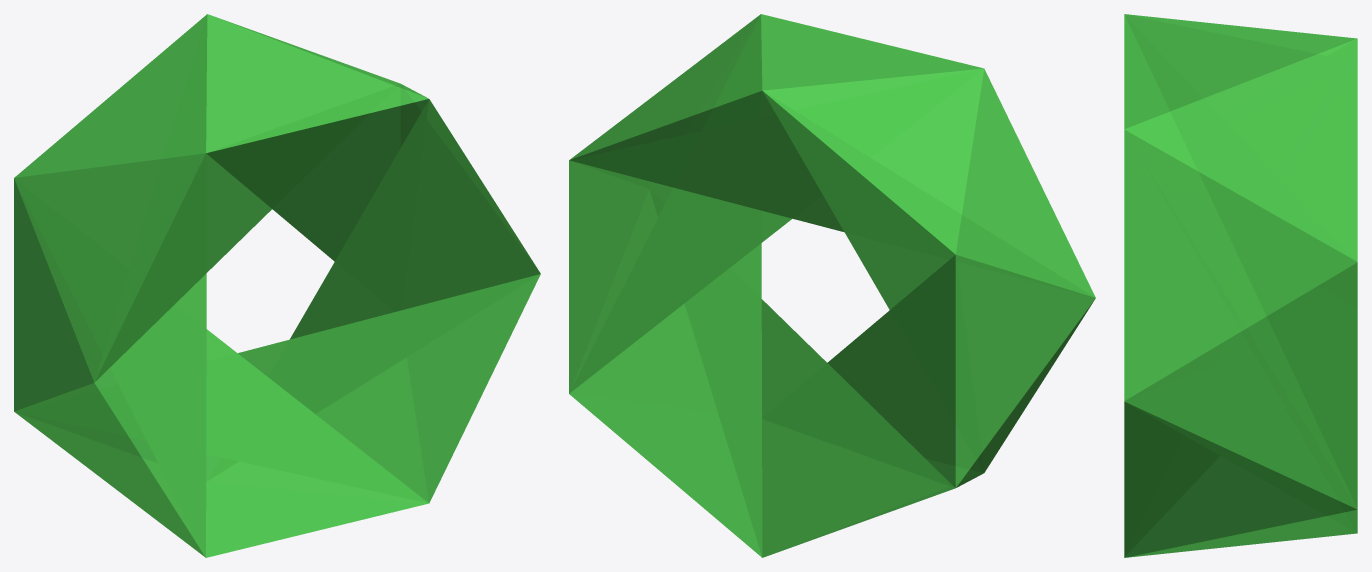
Rendered from AntiHexagonalIrisToroid.obj.
3 views of the same model, side by side, from view 1: azimuth 30°, elevation 25°; view 2: azimuth 150°, elevation 25°; view 3: azimuth 270°, elevation 25° (orthographic). The views are drawn at different scales.
Bounding box in the file's own units: 2 × 2 × 0.8556.
